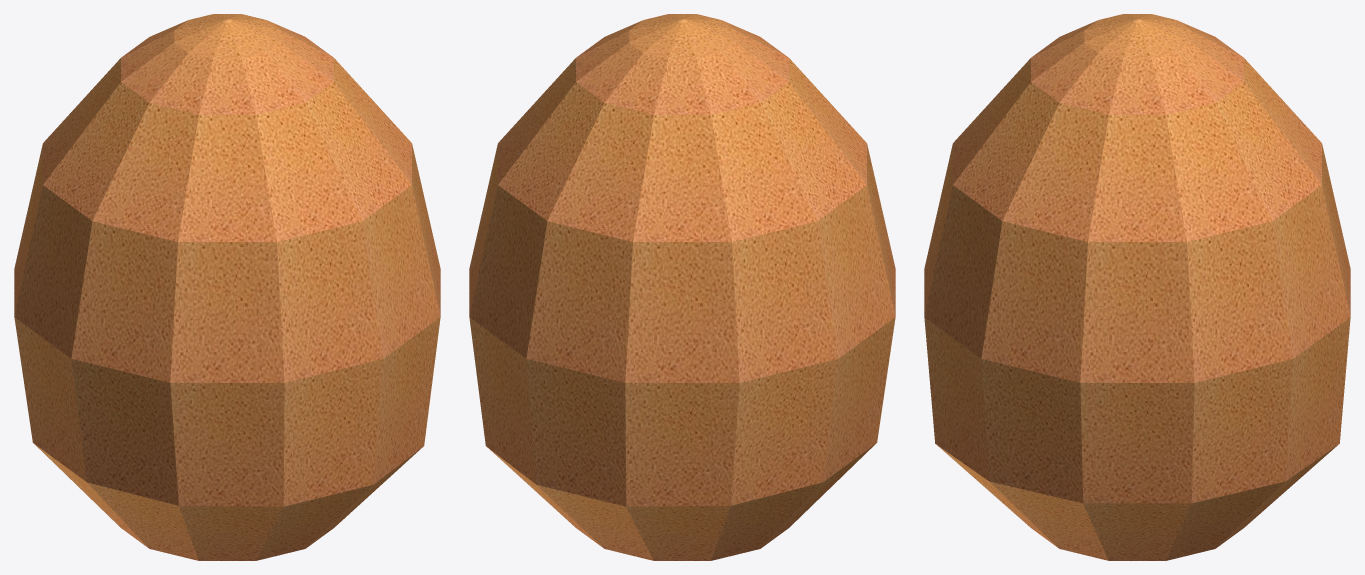
Rendered from dry_egg.gltf.
3 views of the same model, side by side, from view 1: azimuth 30°, elevation 25°; view 2: azimuth 150°, elevation 25°; view 3: azimuth 270°, elevation 25° (orthographic).
Visible parts, largest first — view 1: sphere; view 2: sphere; view 3: sphere.
Part boxes in pixels (left/top/right/bottom): sphere: left=14, top=14, right=440, bottom=560; sphere: left=469, top=14, right=895, bottom=560; sphere: left=924, top=14, right=1350, bottom=560.
Bounding box in the file's own units: 0.75 × 1 × 0.75.
1 material, 1 textured.
